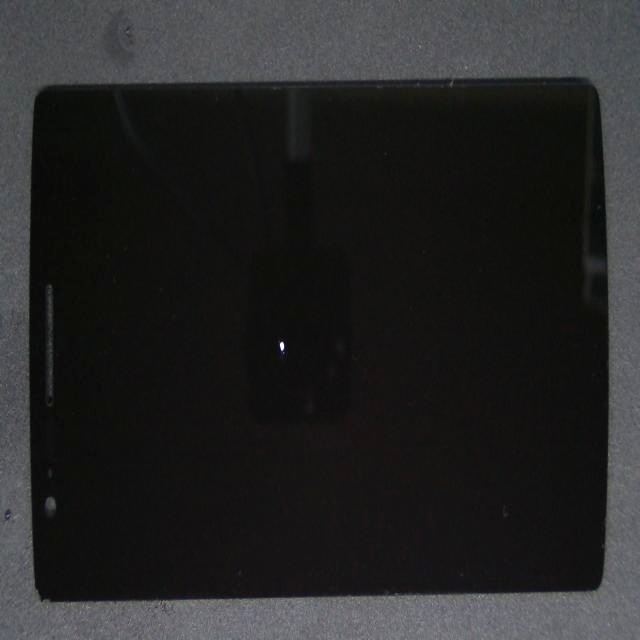stain: (102, 194, 418, 545)
